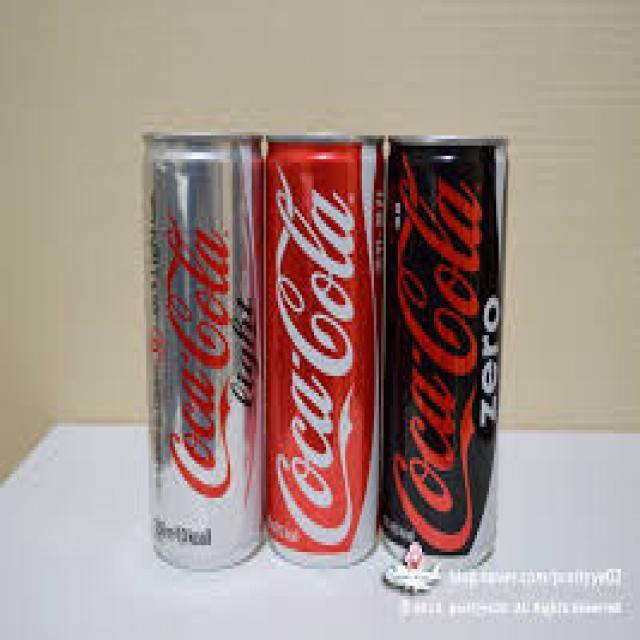coca-cola: (266, 127, 386, 568)
